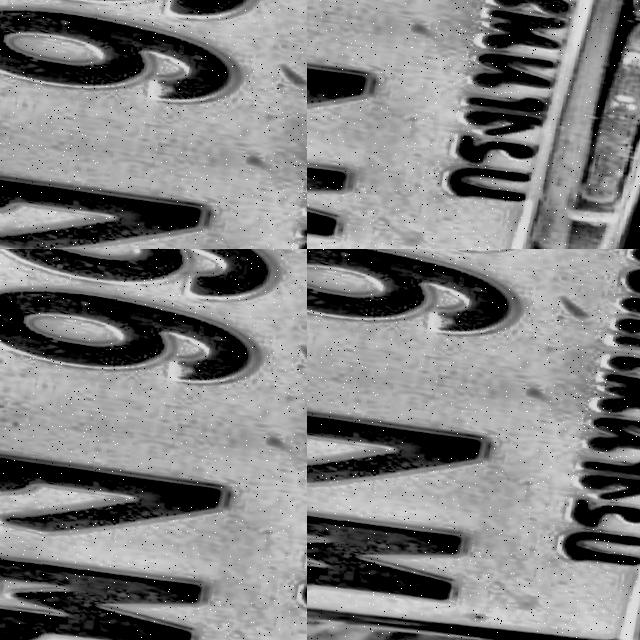license-plate: (307, 249, 640, 640)
